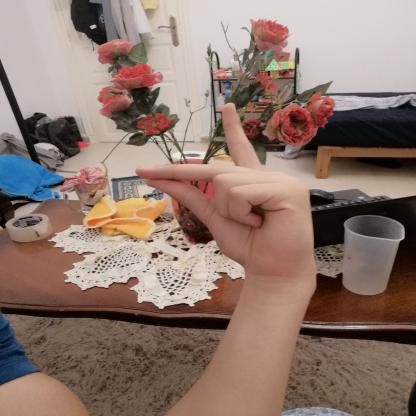TAA: (126, 95, 326, 288)
